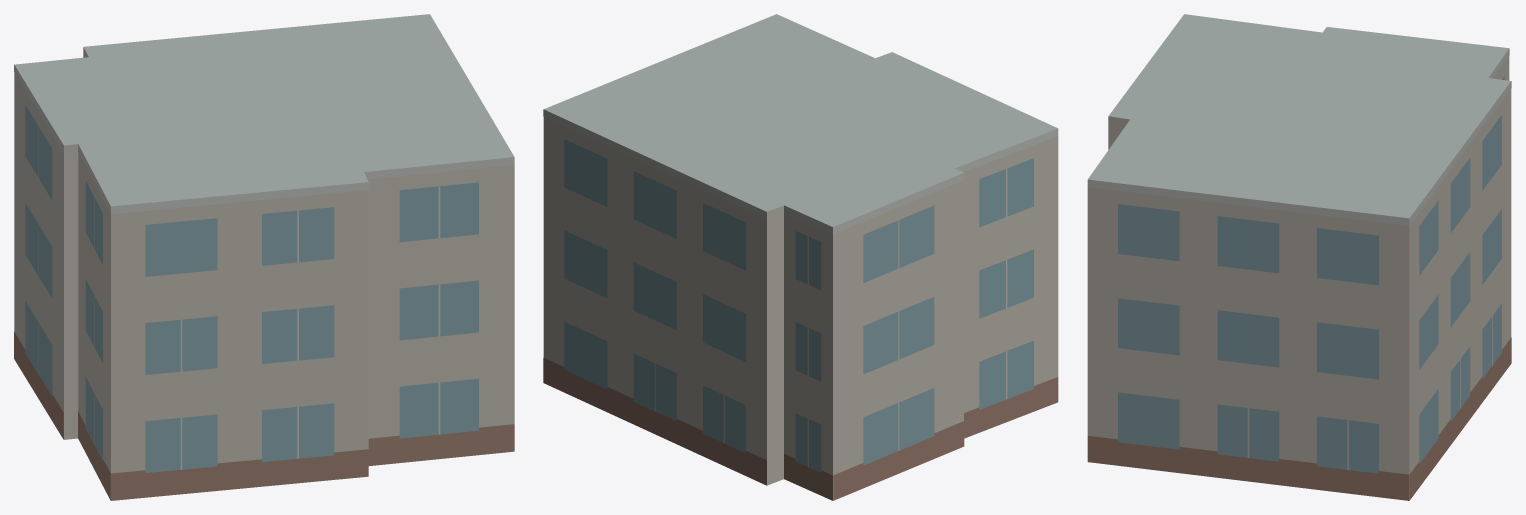
The model's file is survey-upis-32950147.glb.
3 renders of one model, left to right at view 1: azimuth 30°, elevation 25°; view 2: azimuth 150°, elevation 25°; view 3: azimuth 270°, elevation 25°, orthographic. The views are drawn at different scales.
Parts seen in each view (by area): view 1: survey-upis-32950147.tmp; view 2: survey-upis-32950147.tmp; view 3: survey-upis-32950147.tmp.
Boxes of the visible parts, x1,y1,x2,y2 form: survey-upis-32950147.tmp: (14, 14, 514, 500); survey-upis-32950147.tmp: (543, 14, 1058, 500); survey-upis-32950147.tmp: (1087, 14, 1511, 500).
Size of the model in its own units: 14.2 by 9.15 by 12.45.
